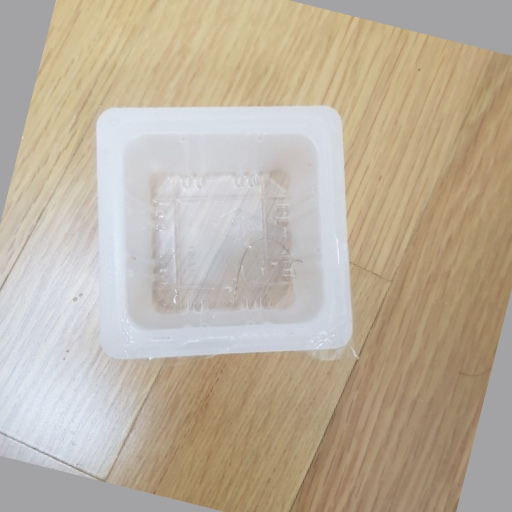Plastic_4: (93, 105, 354, 360)
